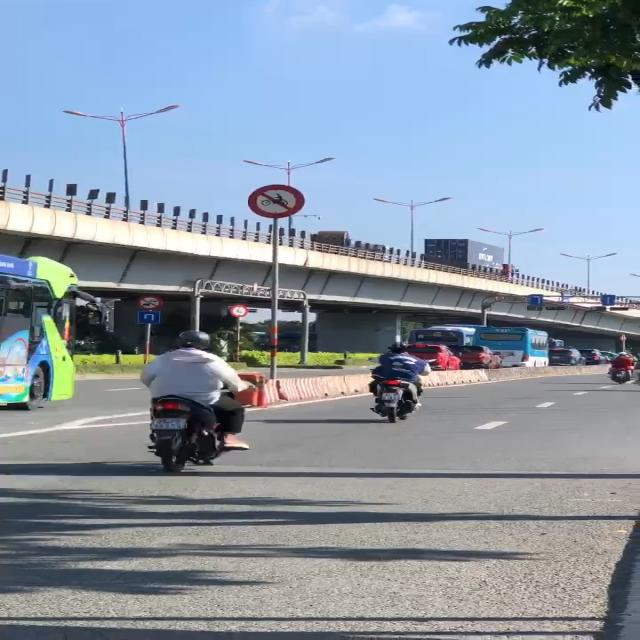Bien bao cam xe may: (249, 182, 307, 218)
Bien bao cam xe oto khach va xe oto tai: (135, 292, 162, 310)
